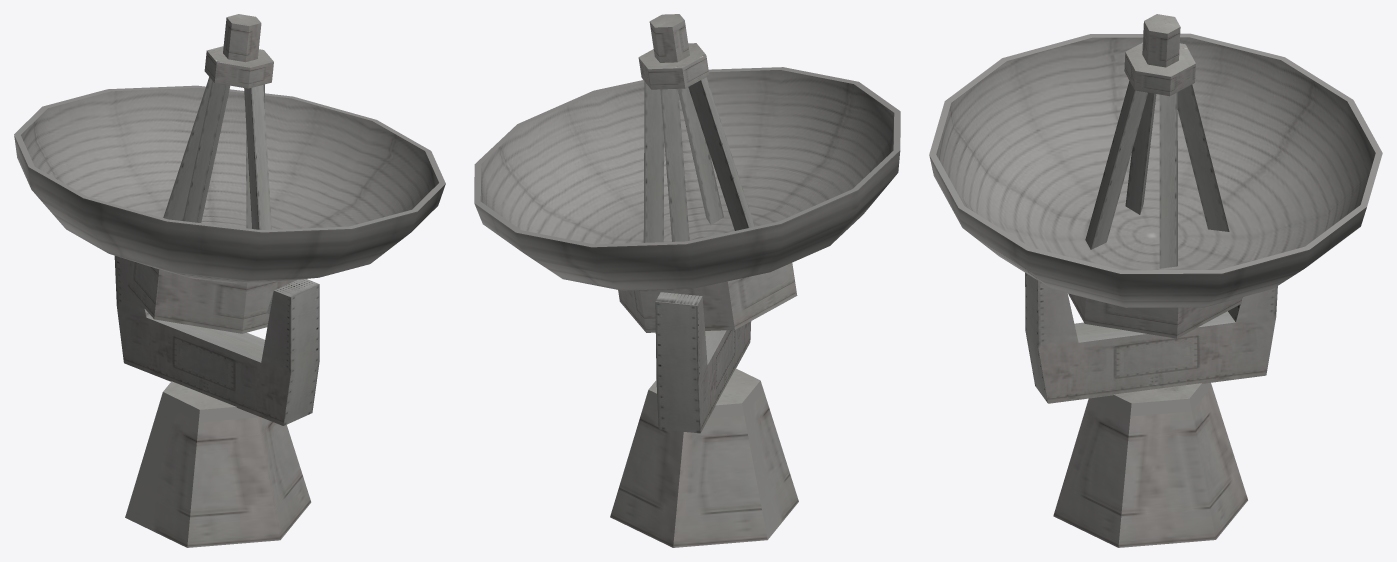
Rendered from satellite.fbx.
3 views of the same model, side by side, from view 1: azimuth 30°, elevation 25°; view 2: azimuth 150°, elevation 25°; view 3: azimuth 270°, elevation 25° (orthographic). The views are drawn at different scales.
Visible parts, largest first — view 1: Dish; view 2: Dish; view 3: Dish.
Part boxes in pixels (x1,y1,x2,y2): Dish: [14, 14, 445, 547]; Dish: [474, 14, 900, 547]; Dish: [929, 14, 1382, 547].
Size of the model in its own units: 6.36 by 6.47 by 7.91.
Materials: 1 (1 with a texture image).
